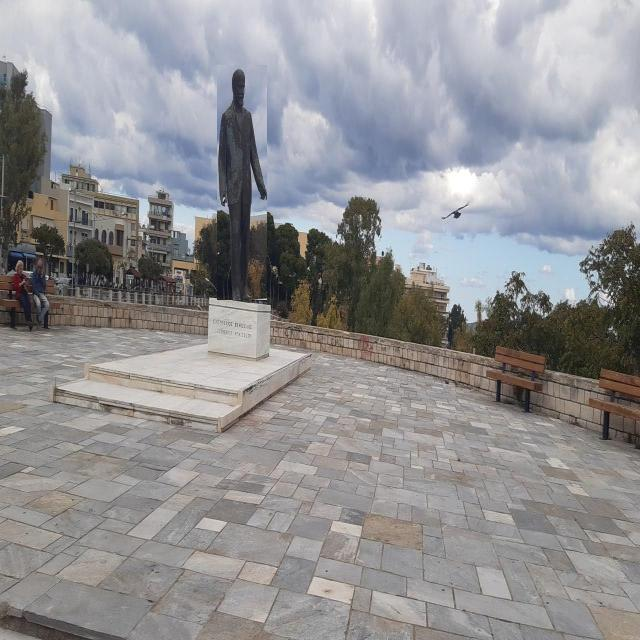Venizelos: (218, 66, 268, 301)
